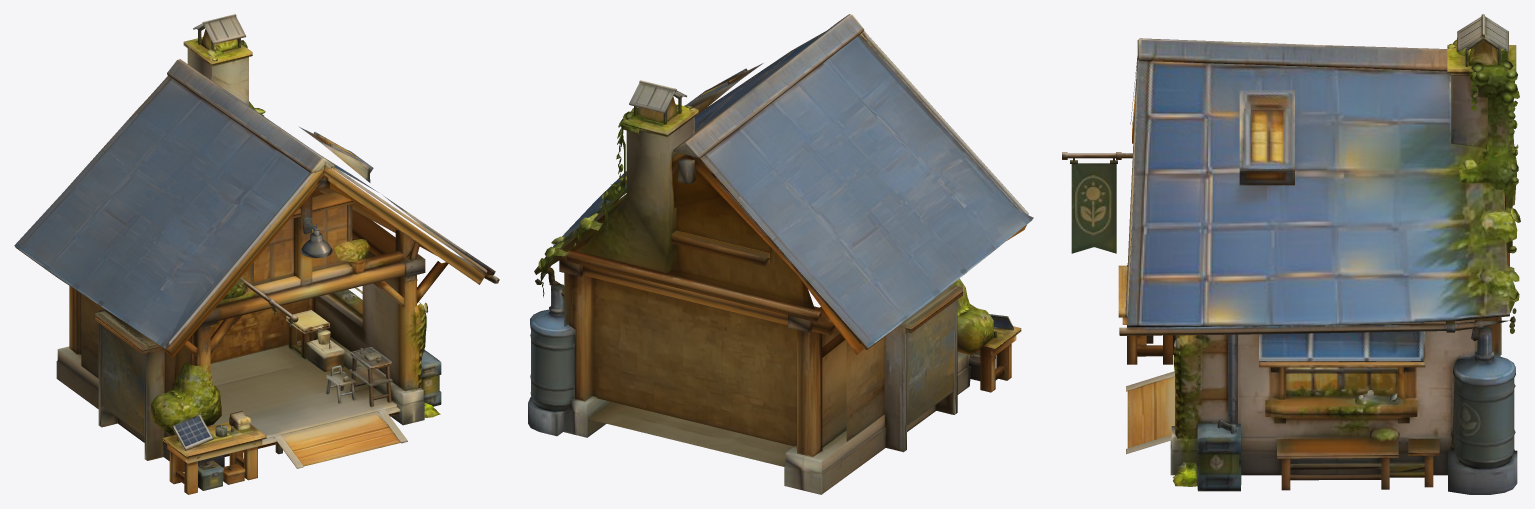
Rendered from workshop.glb.
3 views of the same model, side by side, from view 1: azimuth 30°, elevation 25°; view 2: azimuth 150°, elevation 25°; view 3: azimuth 270°, elevation 25° (orthographic). The views are drawn at different scales.
Parts seen in each view (by area): view 1: tripo_07376a1f_e6d3_45a8_9916_7425f46b1c22; view 2: tripo_07376a1f_e6d3_45a8_9916_7425f46b1c22; view 3: tripo_07376a1f_e6d3_45a8_9916_7425f46b1c22.
Boxes of the visible parts, bbox=[...] form: tripo_07376a1f_e6d3_45a8_9916_7425f46b1c22: bbox=[14, 14, 499, 494]; tripo_07376a1f_e6d3_45a8_9916_7425f46b1c22: bbox=[528, 14, 1033, 494]; tripo_07376a1f_e6d3_45a8_9916_7425f46b1c22: bbox=[1062, 14, 1520, 494].
Bounding box in the file's own units: 0.9995 × 0.9419 × 0.9683.
Materials: 1 (1 with a texture image).
